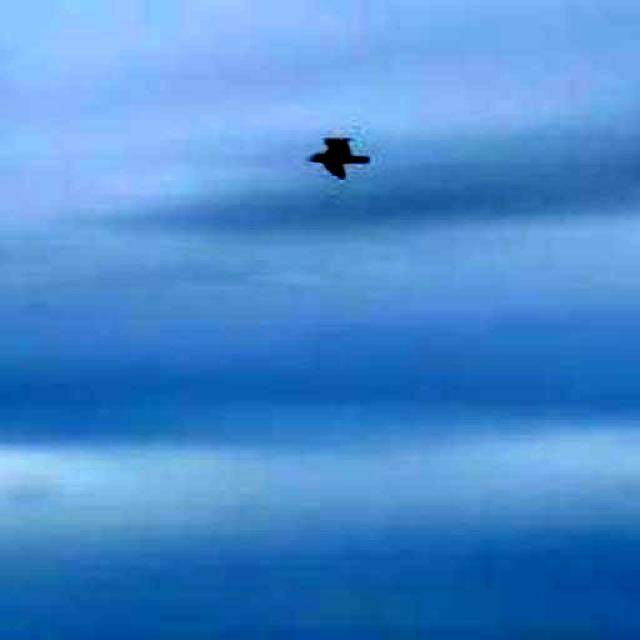airplane: (308, 136, 374, 178)
